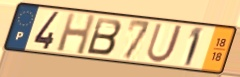1: (184, 26, 205, 68)
4: (32, 10, 60, 51)
7: (125, 18, 152, 62)
B: (85, 16, 124, 57)
H: (55, 12, 98, 57)
U: (144, 22, 185, 65)
